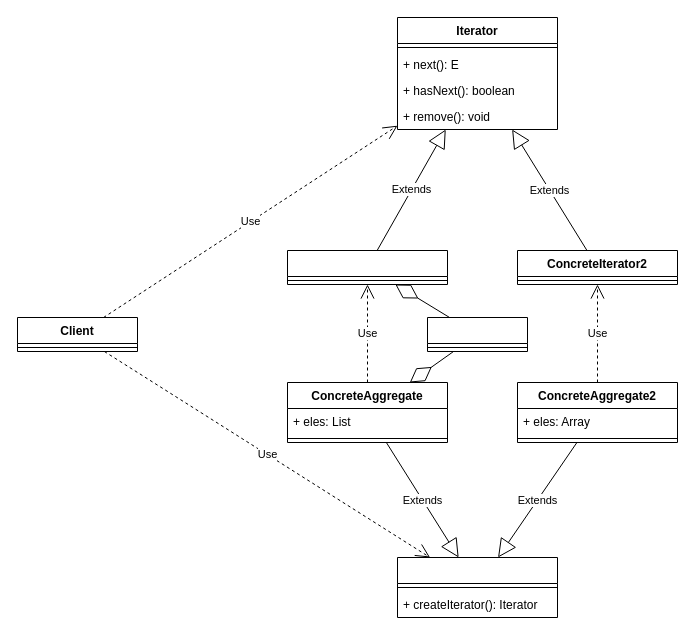
Some shapes in this 695 by 638 pixel diagram are drawn without their labels. The shapes that lost their labels are listed below. From the top down, each one's box as (x1, y1, x2, y2) in pixels, then its label:
(286, 250, 448, 284): ConcreteIterator
(426, 316, 528, 352): Element
(396, 556, 558, 618): Aggregate
